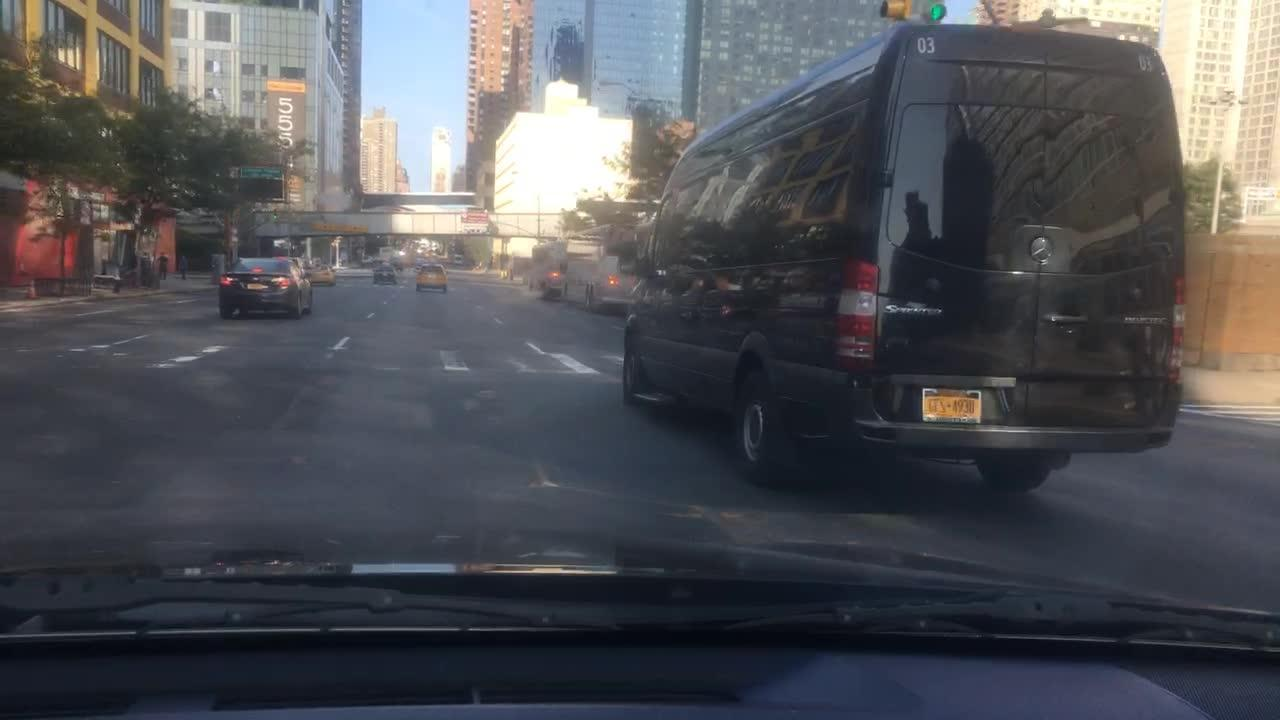Mercedes: (1030, 232, 1056, 262)
